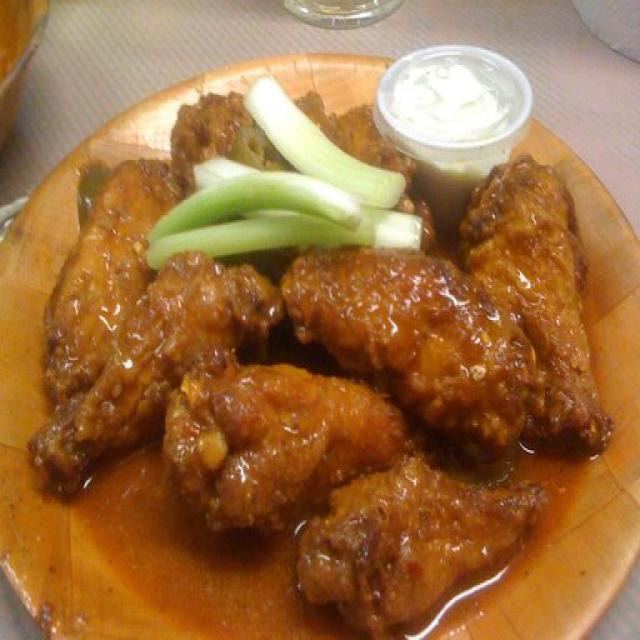Frango: (150, 352, 386, 509), (291, 484, 545, 626)
